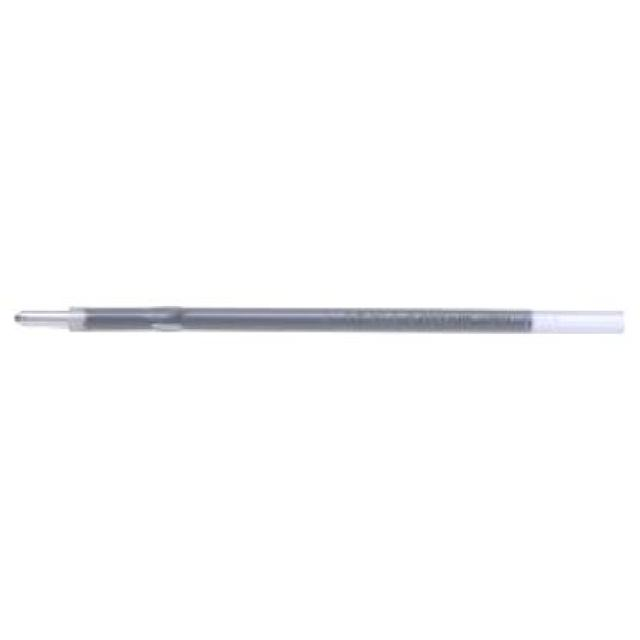pen: (16, 308, 628, 332)
